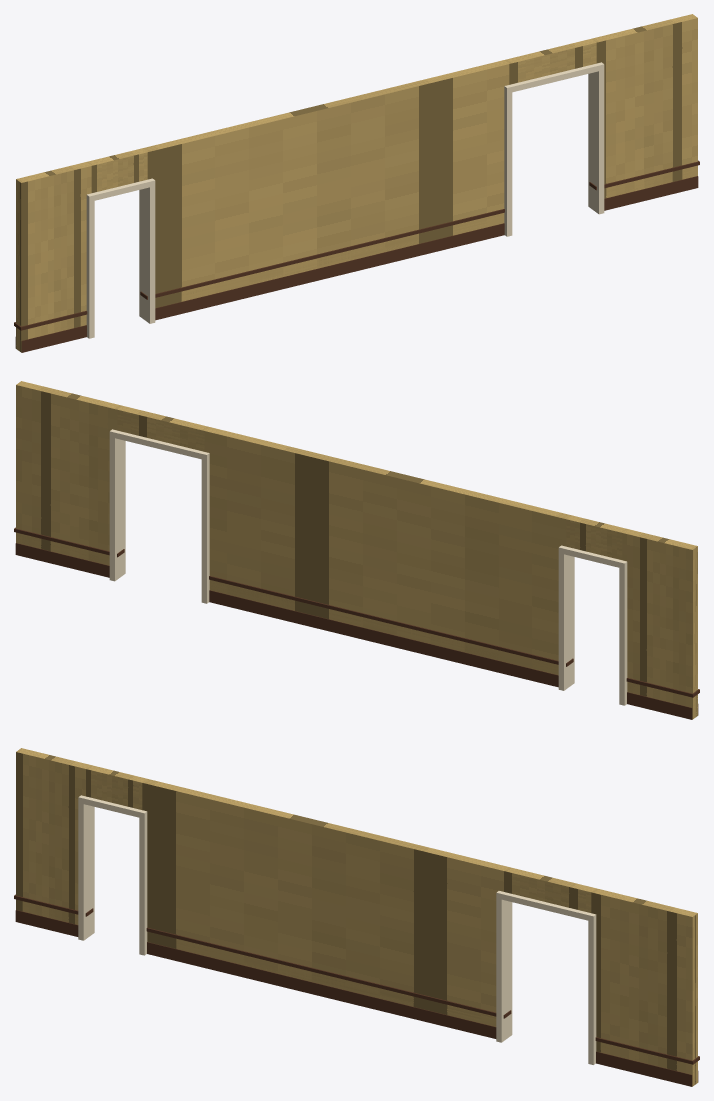
The model's file is hall_front.glb.
3 renders of one model, top to bottom at view 1: azimuth 30°, elevation 25°; view 2: azimuth 150°, elevation 25°; view 3: azimuth 330°, elevation 25°, orthographic.
Parts seen in each view (by area): view 1: Box3, Box5, Box1, Box4, Box17, Box10, Box8, Box13, Box7, Box18, Box9, Box12 (+4 smaller); view 2: Box3, Box5, Box1, Box4, Box17, Box10, Box8, Box13, Box7, Box18, Box9, Box12 (+4 smaller); view 3: Box3, Box5, Box1, Box4, Box17, Box9, Box8, Box12, Box7, Box18, Box10, Box13 (+3 smaller).
Part boxes in pixels (x1,y1,x2,y2): Box3: (142, 60, 509, 307); Box5: (591, 14, 697, 198); Box1: (16, 162, 91, 352); Box4: (155, 223, 504, 320); Box17: (155, 213, 504, 307); Box10: (588, 62, 604, 214); Box8: (504, 39, 596, 84); Box13: (139, 178, 155, 323); Box7: (86, 148, 147, 192); Box18: (140, 209, 504, 299); Box9: (504, 85, 512, 236); Box12: (86, 193, 94, 338); Box3: (204, 427, 571, 674); Box5: (16, 381, 122, 565); Box1: (622, 529, 697, 719); Box4: (209, 590, 558, 687); Box17: (209, 580, 558, 674); Box10: (109, 429, 125, 581); Box8: (117, 406, 209, 451); Box13: (558, 545, 574, 690); Box7: (566, 515, 627, 559); Box18: (209, 576, 573, 666); Box9: (201, 452, 209, 603); Box12: (619, 560, 627, 705); Box3: (142, 779, 508, 1026); Box5: (591, 888, 697, 1086); Box1: (16, 748, 90, 924); Box4: (147, 942, 496, 1038); Box17: (147, 933, 496, 1026); Box9: (496, 891, 512, 1042); Box8: (504, 867, 596, 912); Box12: (78, 795, 94, 940); Box7: (86, 765, 147, 809); Box18: (146, 927, 511, 1018); Box10: (588, 913, 596, 1064); Box13: (139, 810, 147, 955).
Bounding box in the file's own units: 10.89 × 2.6 × 0.3.
3 materials, 1 textured.
